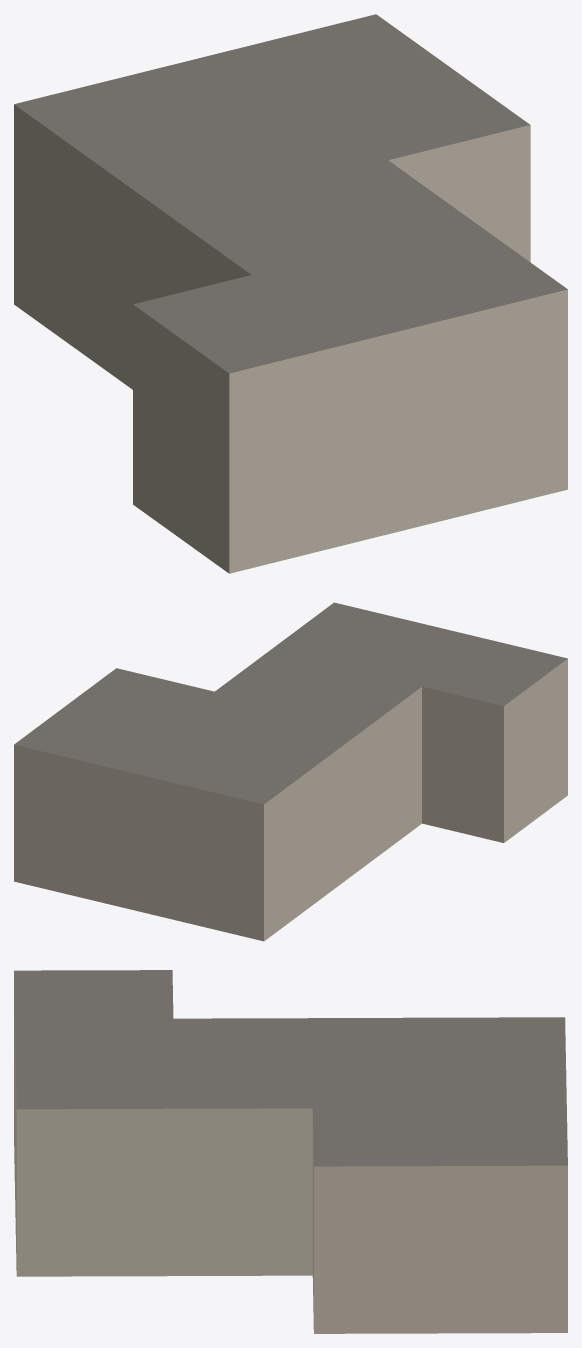
3 renders of one model, top to bottom at view 1: azimuth 30°, elevation 25°; view 2: azimuth 150°, elevation 25°; view 3: azimuth 270°, elevation 25°, orthographic. The views are drawn at different scales.
Visible parts, largest first — view 1: HP-w441877184; view 2: HP-w441877184; view 3: HP-w441877184.
Part boxes in pixels (x1,y1,x2,y2): HP-w441877184: [14, 14, 567, 573]; HP-w441877184: [14, 602, 567, 941]; HP-w441877184: [14, 970, 567, 1333].
Size of the model in its own units: 45.34 by 18 by 54.01.
